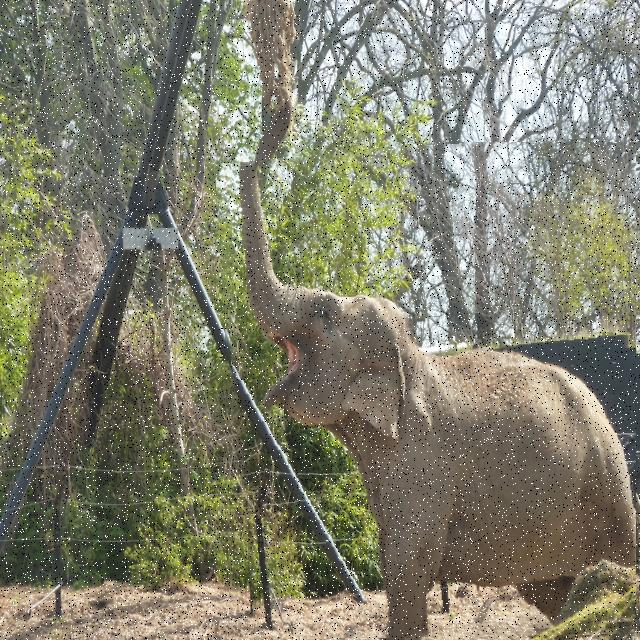elephant: (222, 142, 636, 640)
